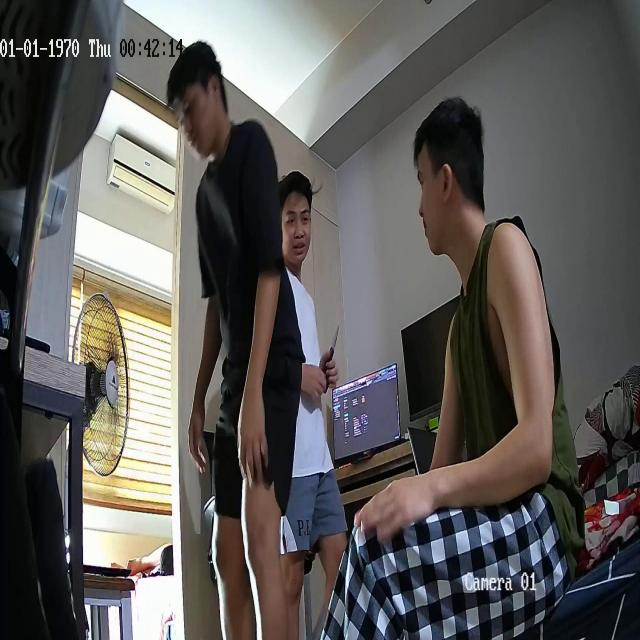scissor: (323, 327, 339, 394)
